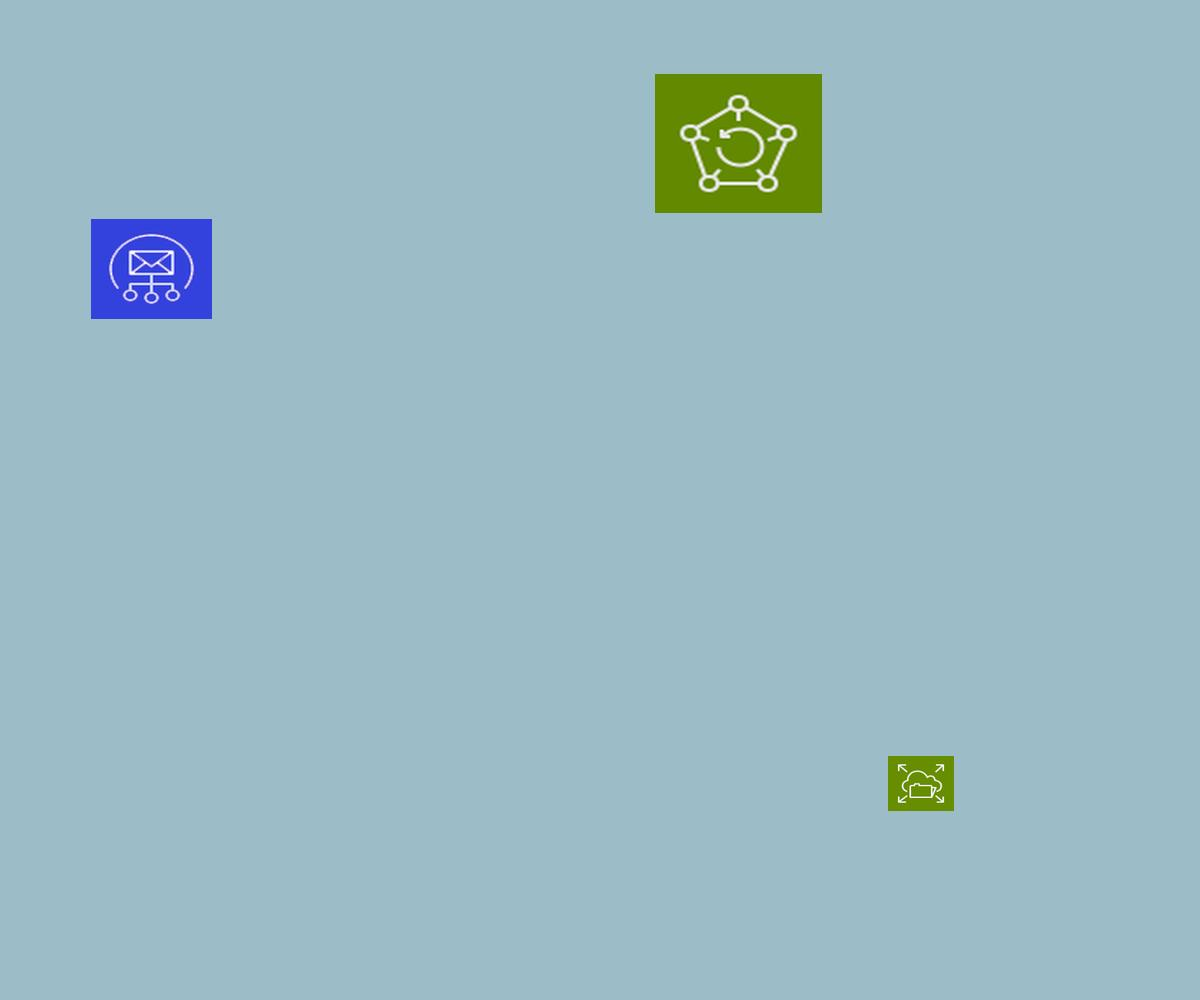AWS-Backup: (655, 74, 822, 213)
AWS-EFS: (888, 756, 954, 811)
AWS-Simple-Email-Service: (91, 219, 212, 319)
